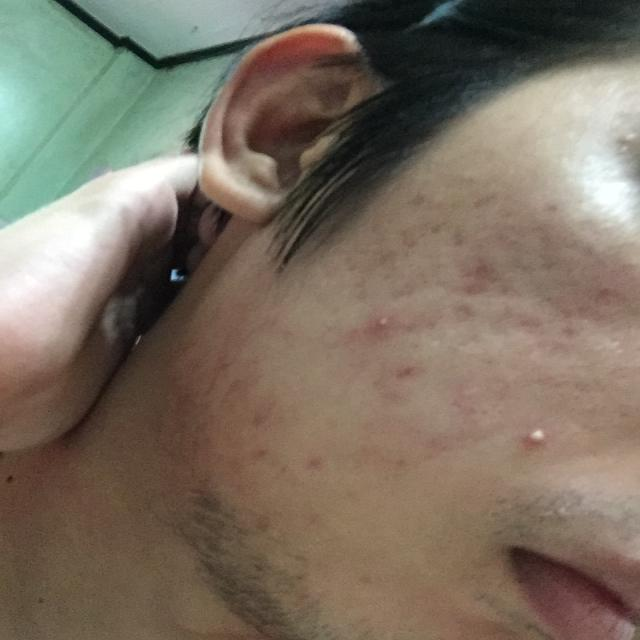blackheads: (505, 408, 566, 465), (357, 305, 411, 346)
